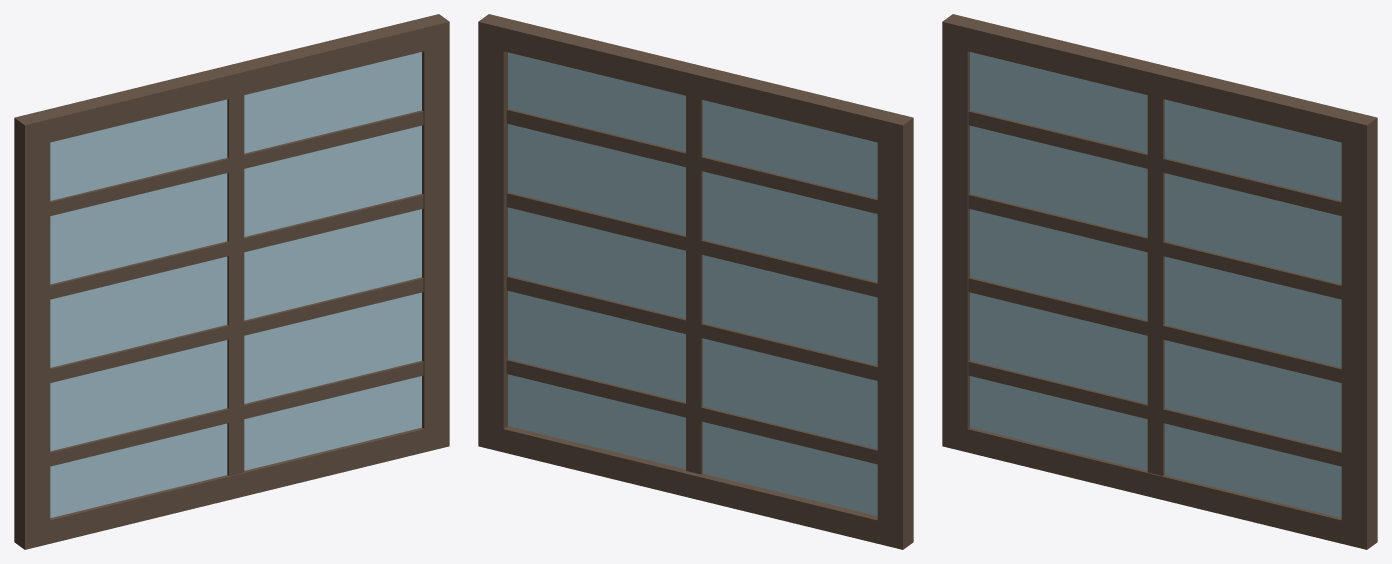
Rendered from Window_1.fbx.
3 views of the same model, side by side, from view 1: azimuth 30°, elevation 25°; view 2: azimuth 150°, elevation 25°; view 3: azimuth 330°, elevation 25° (orthographic).
Parts seen in each view (by area): view 1: Window_1; view 2: Window_1; view 3: Window_1.
Boxes of the visible parts, x1,y1,x2,y2 form: Window_1: (14,14,449,549); Window_1: (478,14,913,549); Window_1: (942,14,1377,549).
Bounding box in the file's own units: 373 × 16.11 × 356.
